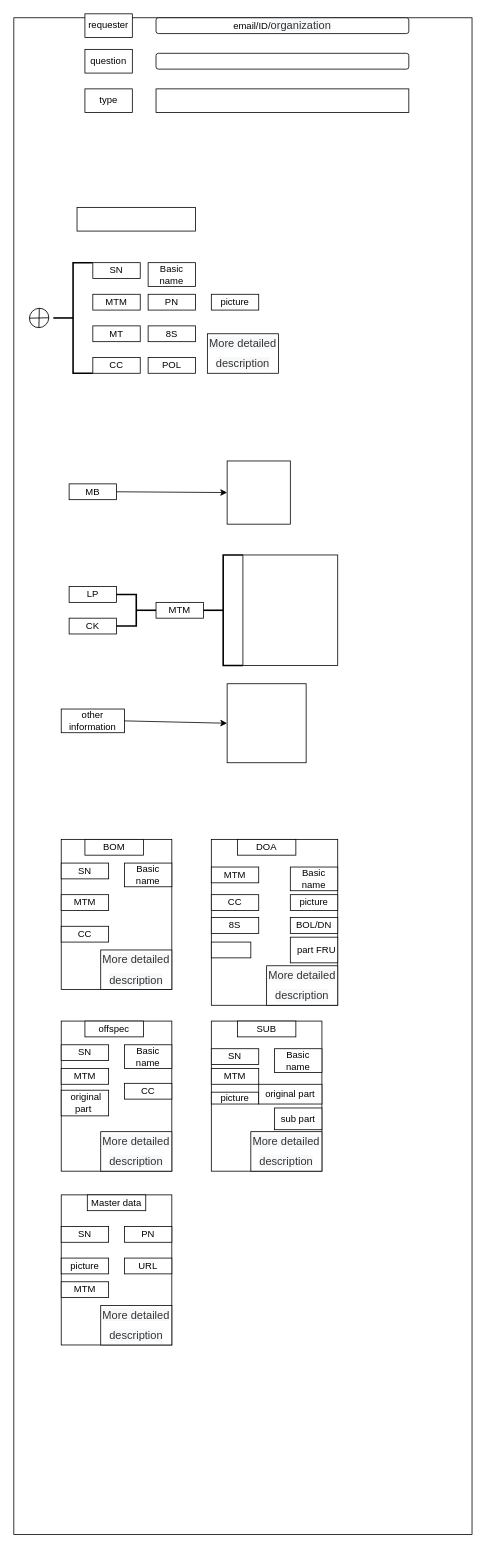
Some shapes in this 486 by 1548 pixel diagram are drawn without their labels. The shapes that lost their labels are listed below. From the top down, each one's centre as x and y in pixels, then its label:
(282,100): BOM/Part
(136,219): attachment information
(258,492): GPU CPU Memory WLAN
(290,610): LCD over LCD bezel LCD cable hinge antenna
(266,723): with NFC with FPR with reader with ex kb with pen with WWAN
(231,949): QTY
